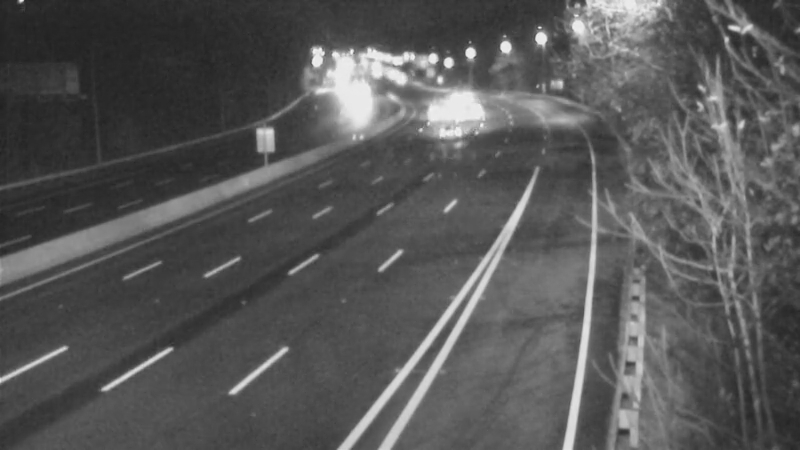vehicle: (433, 68, 483, 118), (411, 84, 461, 134), (446, 89, 496, 139), (428, 108, 478, 158), (332, 72, 382, 122)
